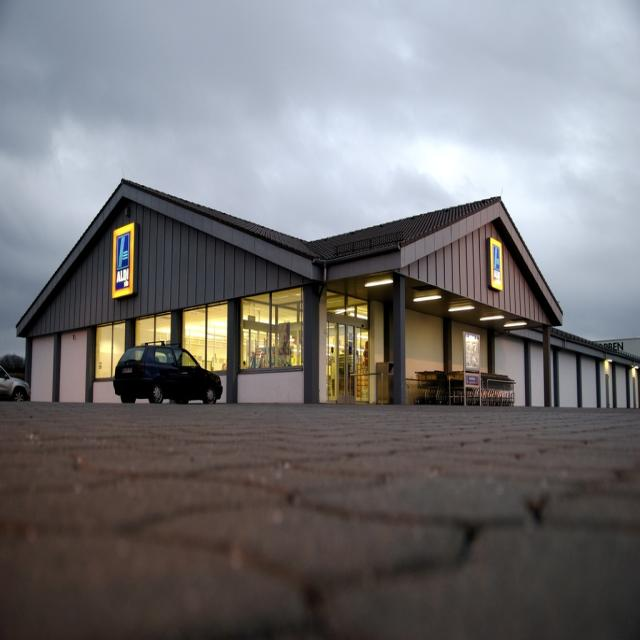aldi: (112, 223, 136, 299), (492, 239, 504, 293)
